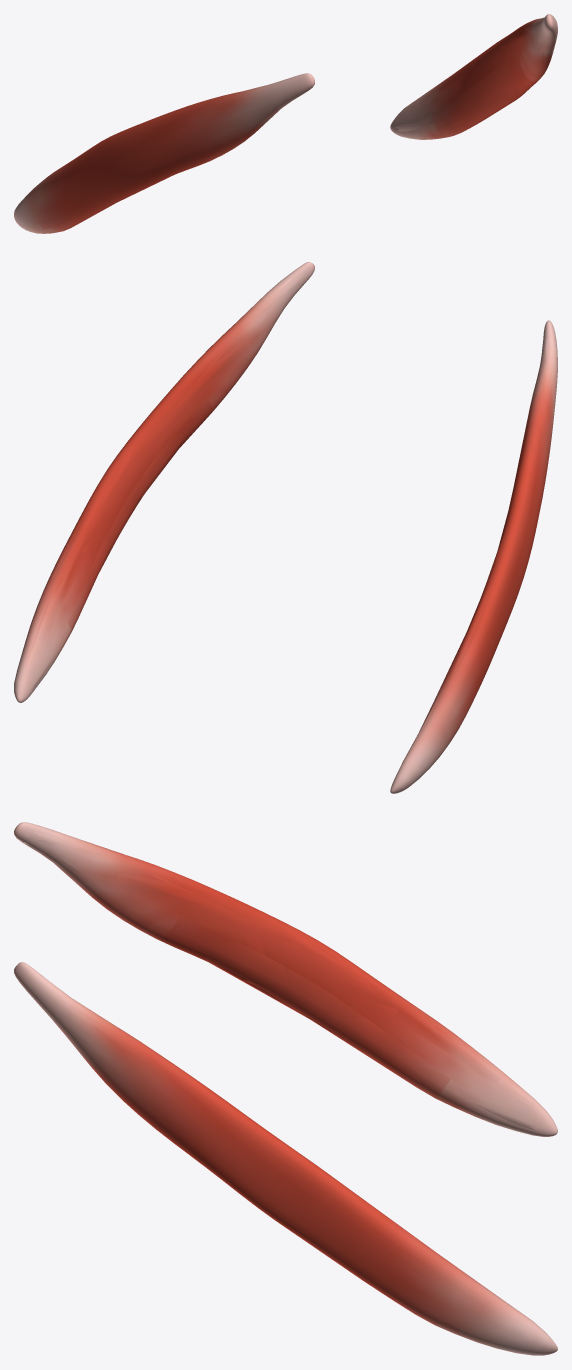
Rendered from Rectus Thoracis.fbx.
3 views of the same model, one above another, from view 1: azimuth 30°, elevation 25°; view 2: azimuth 150°, elevation 25°; view 3: azimuth 270°, elevation 25° (orthographic). The views are drawn at different scales.
Parts seen in each view (by area): view 1: Rectus Thoracis, Rectus Thoracis low; view 2: Rectus Thoracis, Rectus Thoracis low; view 3: Rectus Thoracis, Rectus Thoracis low.
Part boxes in pixels (<box>): Rectus Thoracis: <box>14,14,557,233</box>; Rectus Thoracis low: <box>17,17,556,230</box>; Rectus Thoracis: <box>14,262,557,793</box>; Rectus Thoracis low: <box>24,266,553,781</box>; Rectus Thoracis: <box>14,822,557,1355</box>; Rectus Thoracis low: <box>14,823,543,1349</box>.
Bounding box in the file's own units: 20.67 × 13.95 × 19.47.
